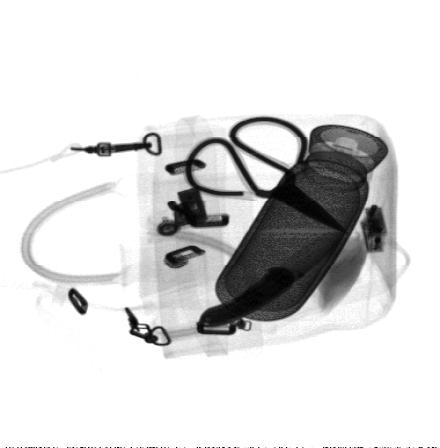Knife: (198, 231, 344, 327)
Scissors: (184, 116, 348, 234)
